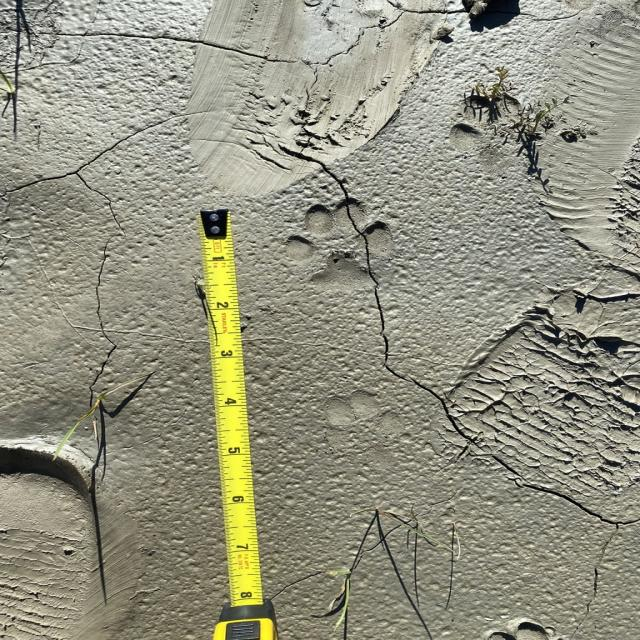canid: (285, 196, 395, 292), (322, 386, 400, 464)
